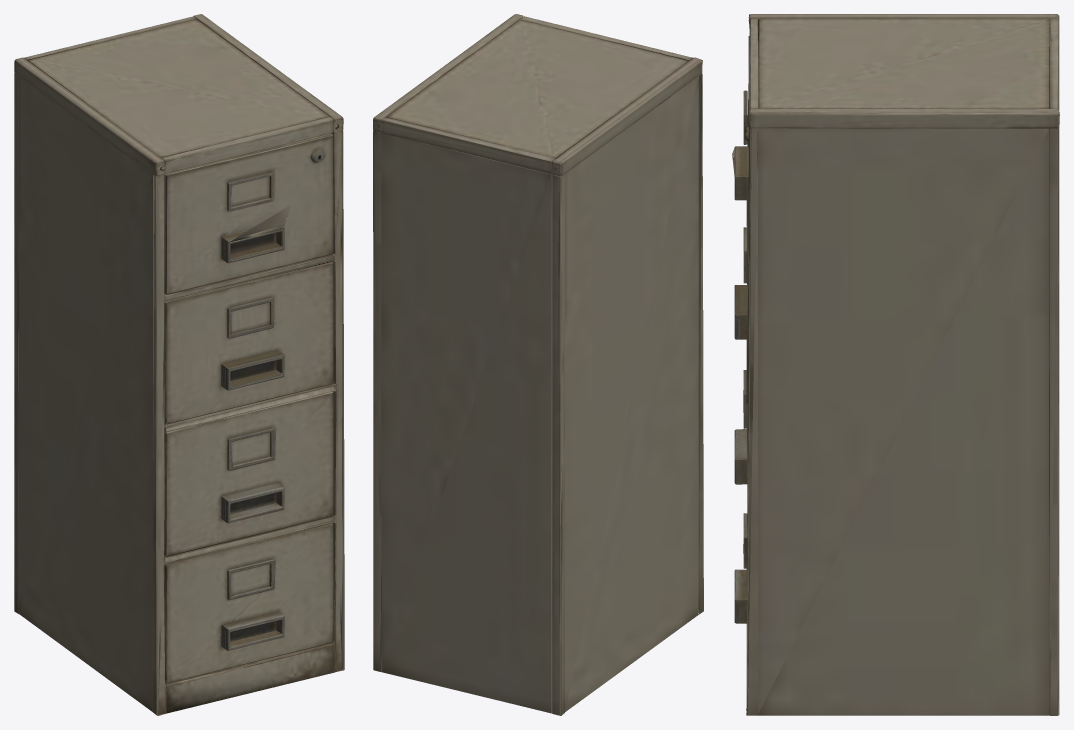
The model's file is p7-filing-cabinet-t25.glb.
The picture shows the model from 3 angles, left to right: view 1: azimuth 30°, elevation 25°; view 2: azimuth 150°, elevation 25°; view 3: azimuth 270°, elevation 25°; orthographic projection. The views are drawn at different scales.
Parts seen in each view (by area): view 1: p7-filing-cabinet-t25; view 2: p7-filing-cabinet-t25; view 3: p7-filing-cabinet-t25.
Part boxes in pixels (box(x1,y1,x2,y2)): p7-filing-cabinet-t25: box(14, 14, 344, 715); p7-filing-cabinet-t25: box(373, 14, 703, 715); p7-filing-cabinet-t25: box(732, 14, 1059, 715).
Size of the model in its own units: 0.47 by 1.32 by 0.65.
1 material, 1 textured.
